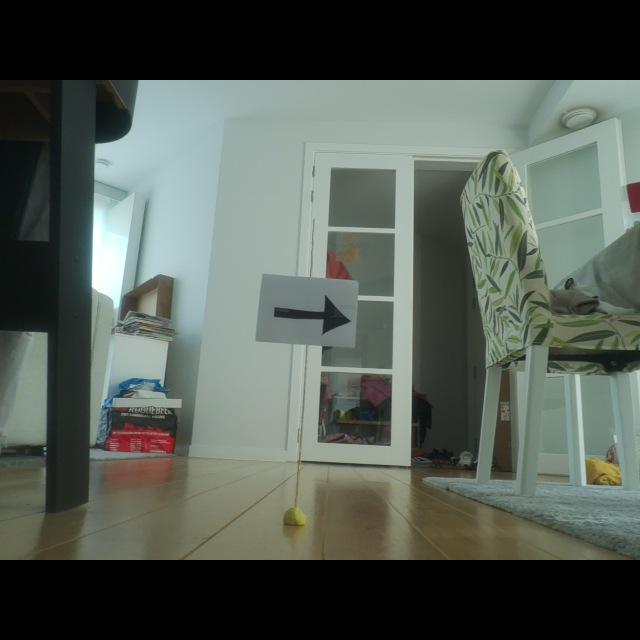jobbra_nyil: (275, 296, 350, 334)
